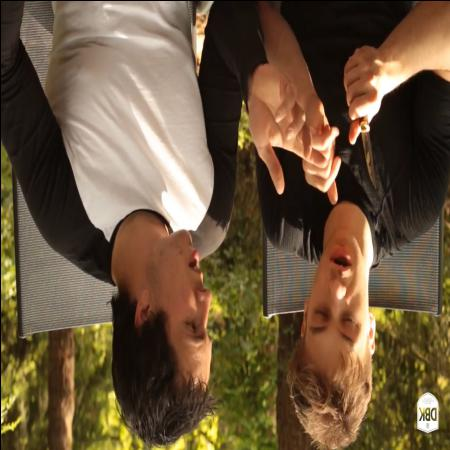long weapon: (340, 49, 390, 195)
